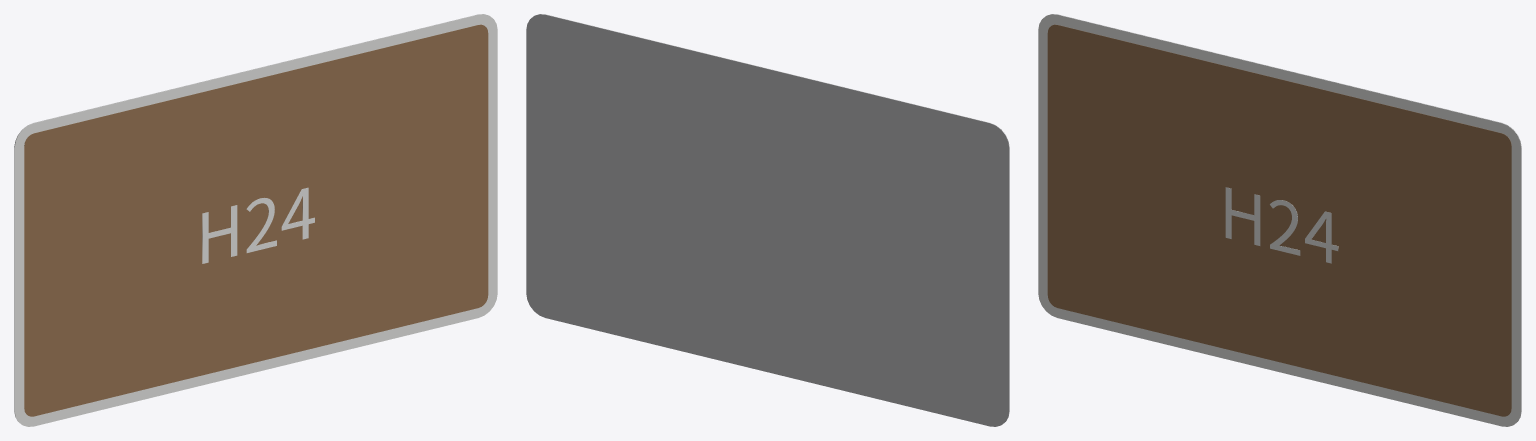
3 renders of one model, left to right at view 1: azimuth 30°, elevation 25°; view 2: azimuth 150°, elevation 25°; view 3: azimuth 330°, elevation 25°, orthographic.
Visible parts, largest first — view 1: H24_fond01, H24_cadre00, H24_txt02, H24_dos; view 2: H24_dos; view 3: H24_fond01, H24_cadre00, H24_txt02, H24_dos.
Part boxes in pixels (x1,y1,x2,y2): H24_fond01: (24, 24, 488, 416); H24_cadre00: (14, 14, 497, 426); H24_txt02: (202, 187, 314, 263); H24_dos: (14, 14, 487, 420); H24_dos: (526, 14, 1009, 426); H24_fond01: (1047, 24, 1511, 416); H24_cadre00: (1038, 14, 1521, 426); H24_txt02: (1225, 187, 1338, 263); H24_dos: (1048, 14, 1521, 420).
Bounding box in the file's own units: 1 × 0.6 × 0.0025.
